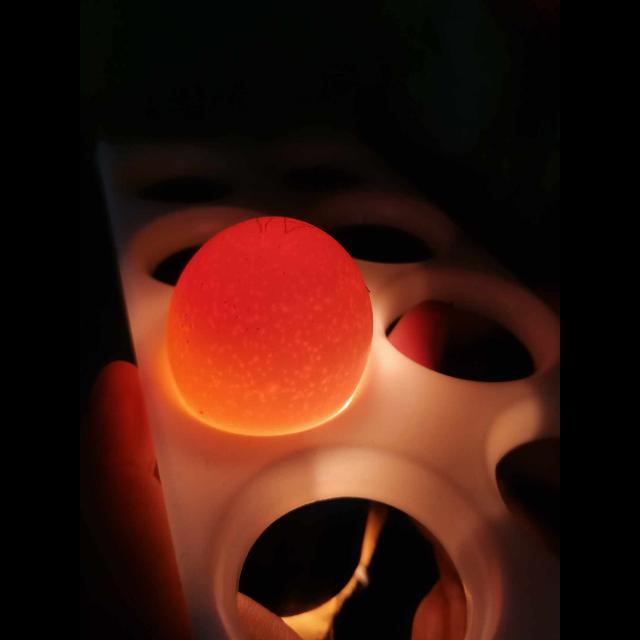Infertile: (164, 206, 376, 432)
